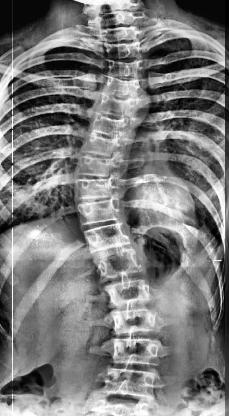Vertebrae: (98, 366, 160, 402), (106, 334, 165, 368), (82, 220, 136, 256), (94, 247, 148, 282), (102, 278, 156, 310), (106, 306, 162, 336), (76, 198, 132, 226), (78, 132, 134, 158), (88, 113, 138, 142), (75, 153, 129, 179), (74, 176, 126, 202), (96, 92, 140, 118), (101, 74, 143, 98), (104, 58, 148, 80)
